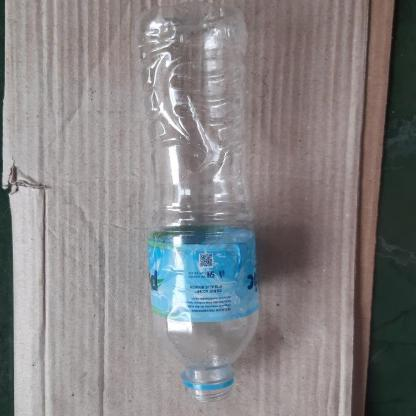Plastic Bottle: (134, 2, 260, 402)
